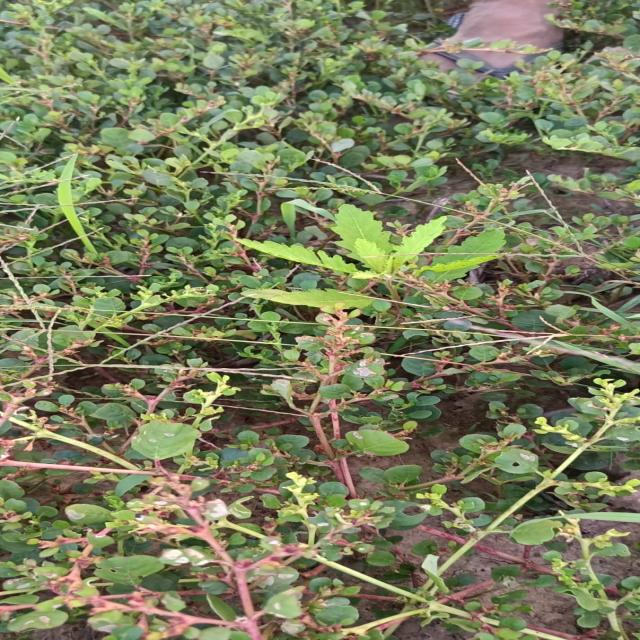plant: (237, 204, 446, 285), (241, 289, 373, 313), (416, 254, 496, 275), (458, 231, 504, 253)
